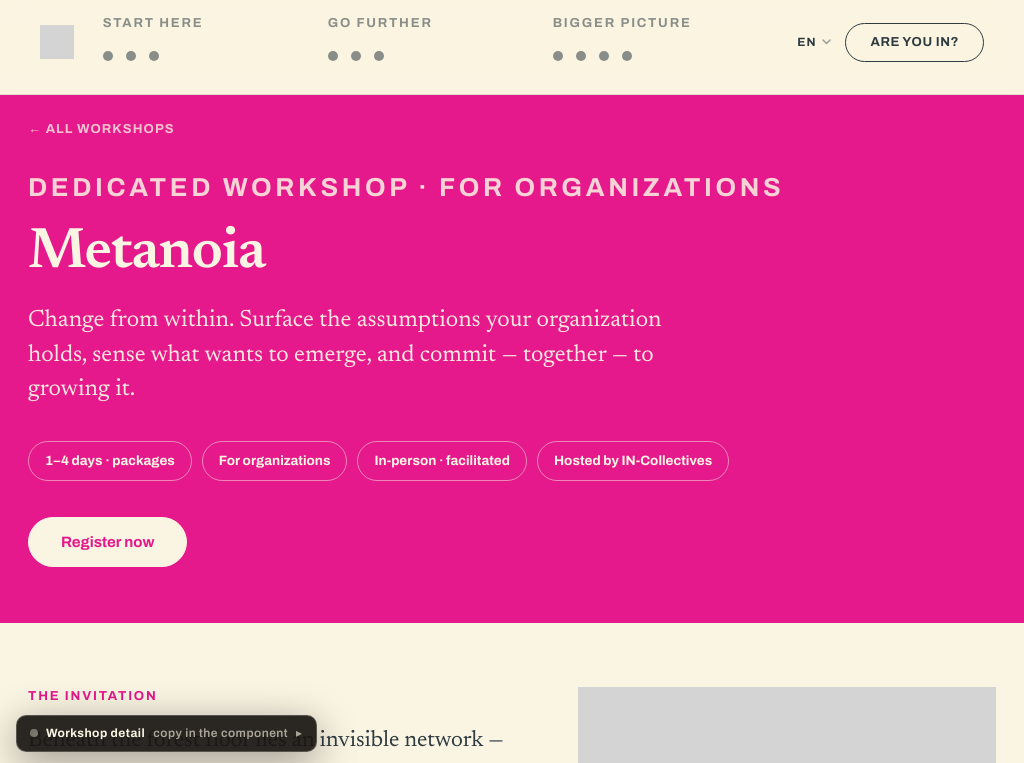
it: the language switcher › keeps you on the same page when a twin exists
Check: the header is shown, box [0,0,1023,95]
Click the button "EN". click: (814, 42)
box: [789,30,840,54]
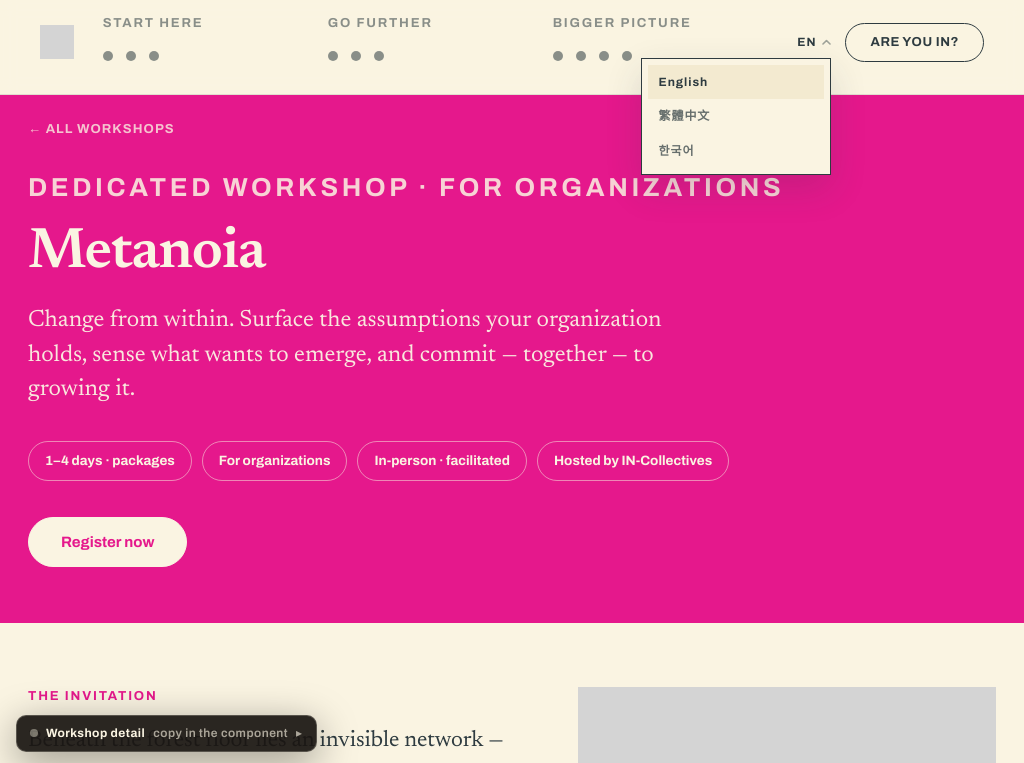
Check: the button "EN" is expanded, box [789,30,840,54]
